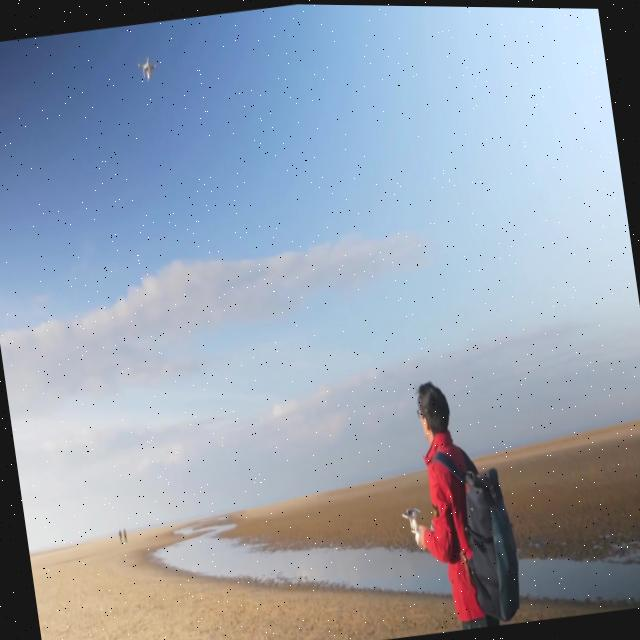drone: (136, 53, 161, 83)
